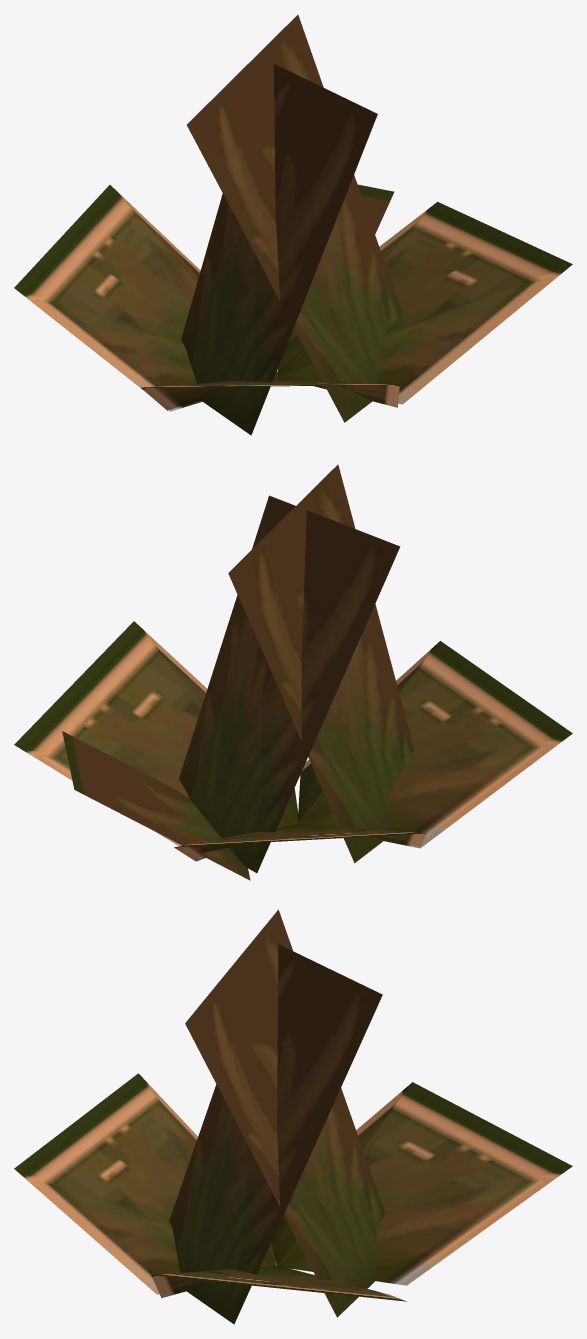
File: grass_dead_04.fbx
3 renders of one model, top to bottom at view 1: azimuth 30°, elevation 25°; view 2: azimuth 150°, elevation 25°; view 3: azimuth 270°, elevation 25°, orthographic.
Visible parts, largest first — view 1: obj0.310; view 2: obj0.310; view 3: obj0.310.
Boxes of the visible parts, x1,y1,x2,y2 form: obj0.310: (14,14,572,435); obj0.310: (14,464,572,880); obj0.310: (14,909,572,1324).
Bounding box in the file's own units: 1.48 × 0.9966 × 1.64.
